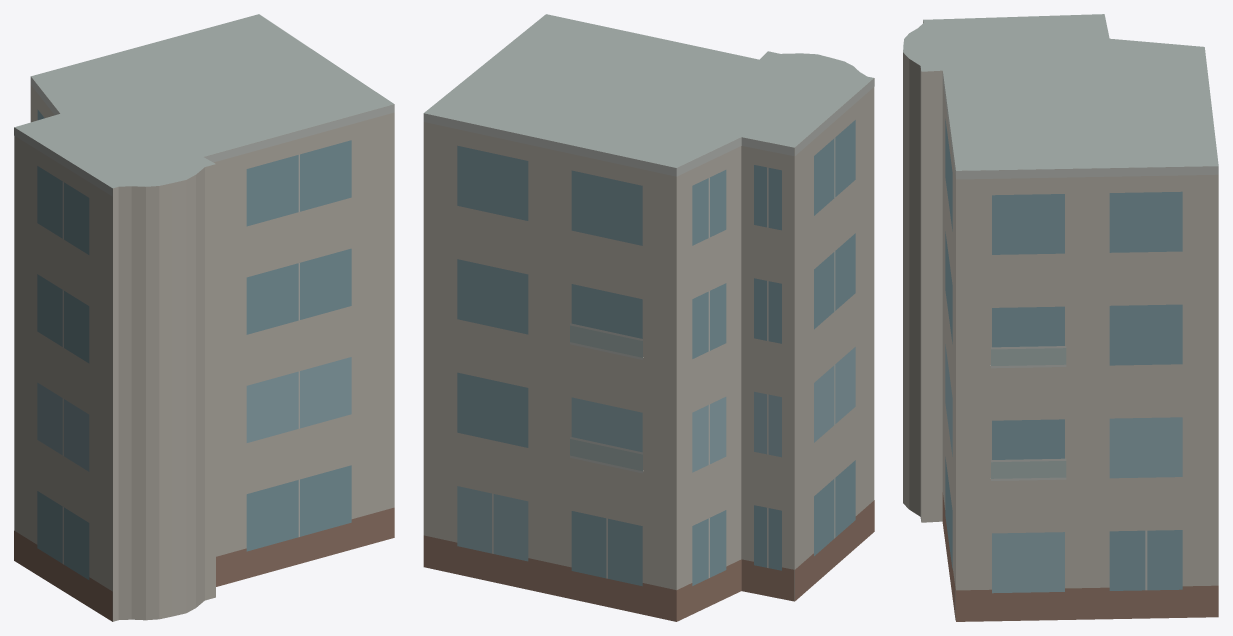
Rendered from survey-upis-32513380.glb.
The picture shows the model from 3 angles, left to right: view 1: azimuth 30°, elevation 25°; view 2: azimuth 150°, elevation 25°; view 3: azimuth 270°, elevation 25°; orthographic projection. The views are drawn at different scales.
Visible parts, largest first — view 1: survey-upis-32513380.tmp; view 2: survey-upis-32513380.tmp; view 3: survey-upis-32513380.tmp.
Boxes of the visible parts, left/top/right/bottom form: survey-upis-32513380.tmp: left=14, top=14, right=394, bottom=621; survey-upis-32513380.tmp: left=423, top=14, right=874, bottom=621; survey-upis-32513380.tmp: left=903, top=14, right=1218, bottom=621.
Size of the model in its own units: 9.56 by 12.8 by 8.13.
